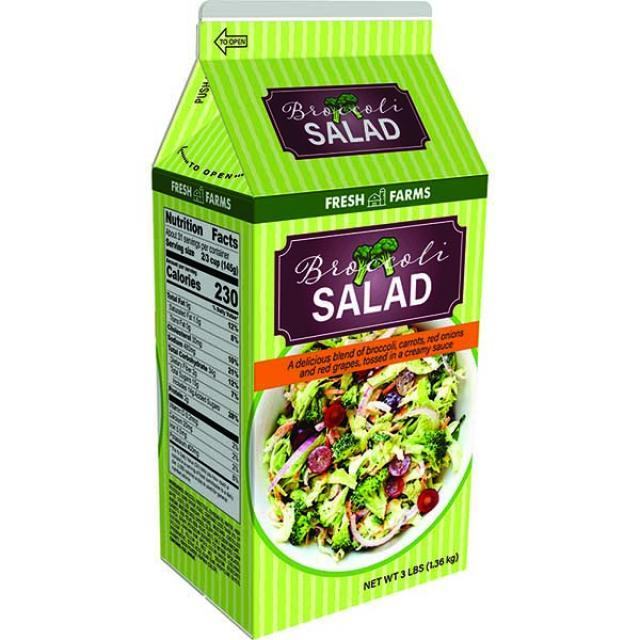Carton: (134, 0, 511, 640)
